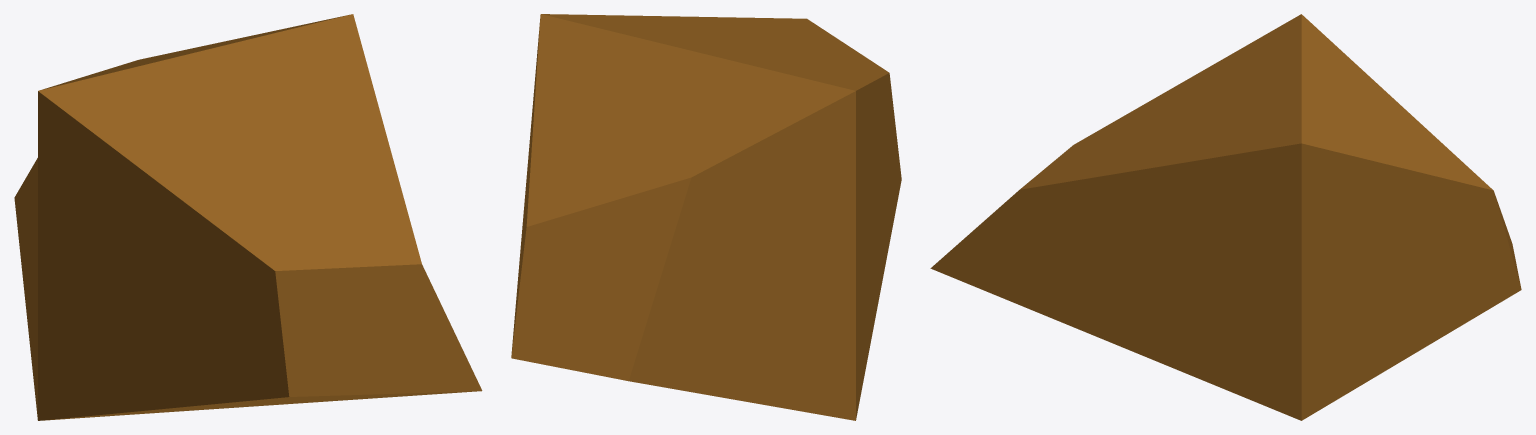
File: Prot_Asteroid_Adrian_01 1.fbx
3 renders of one model, left to right at view 1: azimuth 30°, elevation 25°; view 2: azimuth 150°, elevation 25°; view 3: azimuth 270°, elevation 25°, orthographic. The views are drawn at different scales.
Visible parts, largest first — view 1: SM_Asteroid_Adrian_01; view 2: SM_Asteroid_Adrian_01; view 3: SM_Asteroid_Adrian_01.
Boxes of the visible parts, left/top/right/bottom form: SM_Asteroid_Adrian_01: left=14, top=14, right=482, bottom=420; SM_Asteroid_Adrian_01: left=511, top=14, right=901, bottom=420; SM_Asteroid_Adrian_01: left=930, top=14, right=1521, bottom=420.
Bounding box in the file's own units: 200 × 200 × 386.
